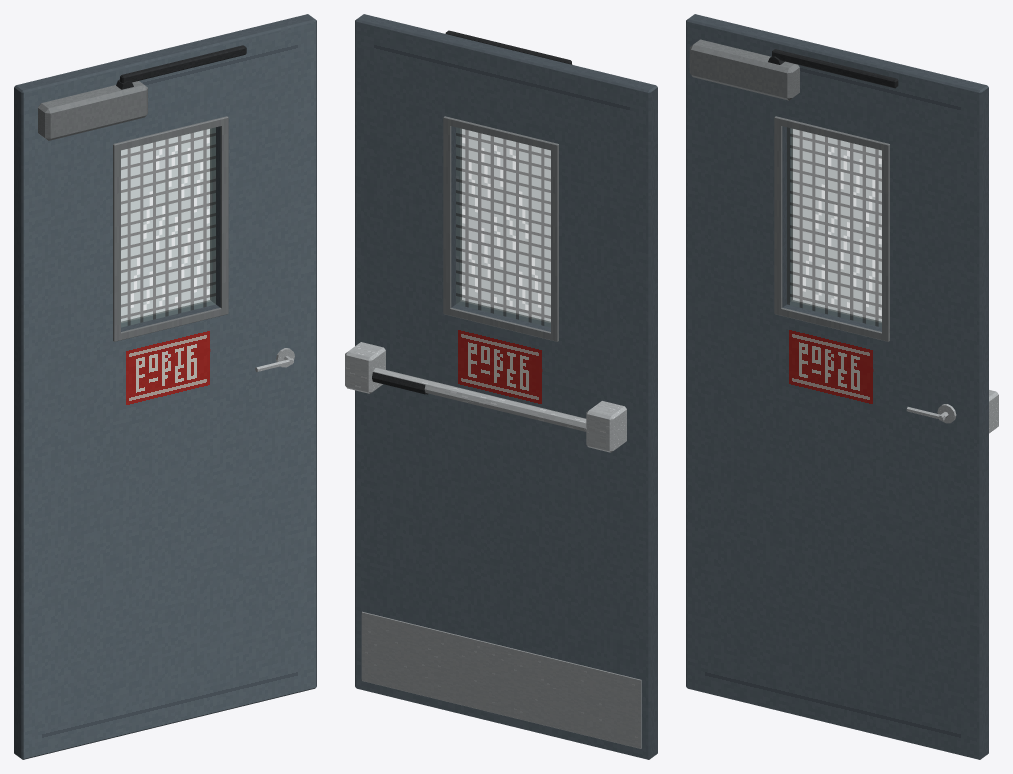
The model's file is door_fire_1.glb.
3 views of the same model, side by side, from view 1: azimuth 30°, elevation 25°; view 2: azimuth 150°, elevation 25°; view 3: azimuth 330°, elevation 25° (orthographic).
Parts seen in each view (by area): view 1: leaf_body, door_glass, glass_bead_front, door_closer, door_closer_arm, glass_bead_back; view 2: leaf_body, kick_plate, door_glass, panic_bar, glass_bead_back, door_closer_arm, panic_bar_pad; view 3: leaf_body, door_glass, glass_bead_front, door_closer, door_closer_arm.
Boxes of the visible parts, <box> form: leaf_body: <box>14,14,316,759</box>; door_glass: <box>121,127,215,327</box>; glass_bead_front: <box>113,116,228,341</box>; door_closer: <box>38,81,147,140</box>; door_closer_arm: <box>116,45,246,89</box>; glass_bead_back: <box>121,128,211,322</box>; leaf_body: <box>355,14,657,759</box>; kick_plate: <box>361,611,641,748</box>; door_glass: <box>456,127,550,327</box>; panic_bar: <box>345,342,626,452</box>; glass_bead_back: <box>443,116,558,341</box>; door_closer_arm: <box>445,30,572,64</box>; panic_bar_pad: <box>372,372,428,394</box>; leaf_body: <box>686,14,988,759</box>; door_glass: <box>787,127,881,327</box>; glass_bead_front: <box>774,116,889,341</box>; door_closer: <box>689,39,799,100</box>; door_closer_arm: <box>768,49,898,88</box>.
Bounding box in the file's own units: 0.95 × 2.06 × 0.2031.
2 materials, 2 textured.
